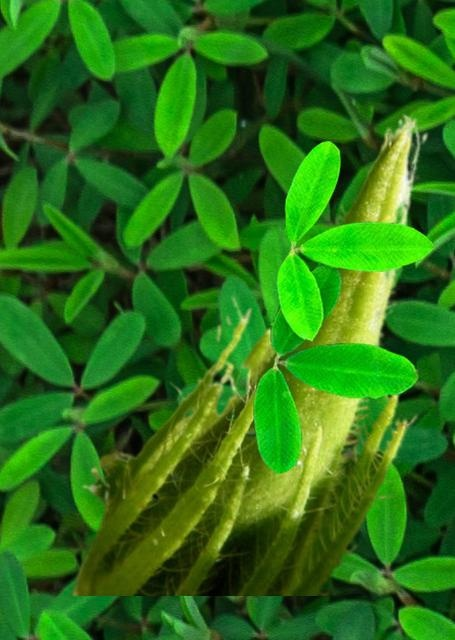okra: (66, 112, 428, 594)
